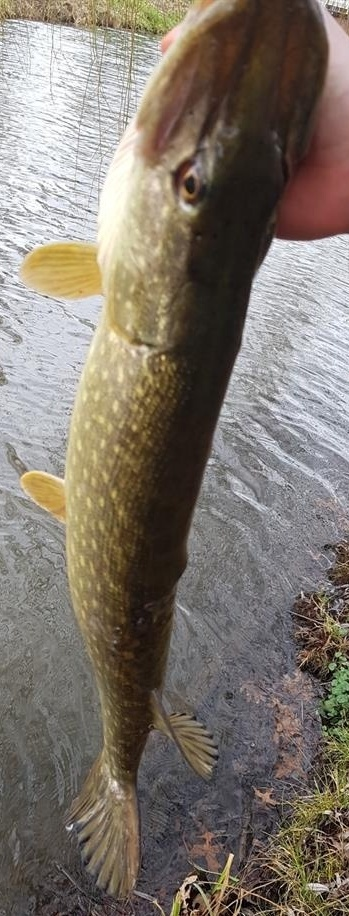Esox lucius: (20, 1, 329, 896)
